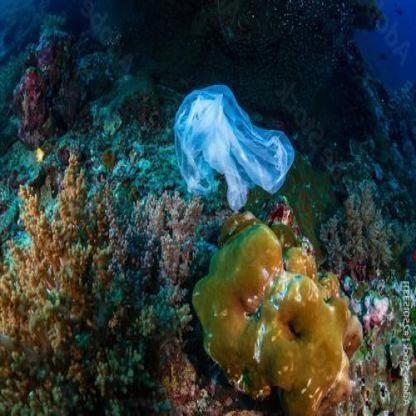pbag: (174, 84, 295, 214)
